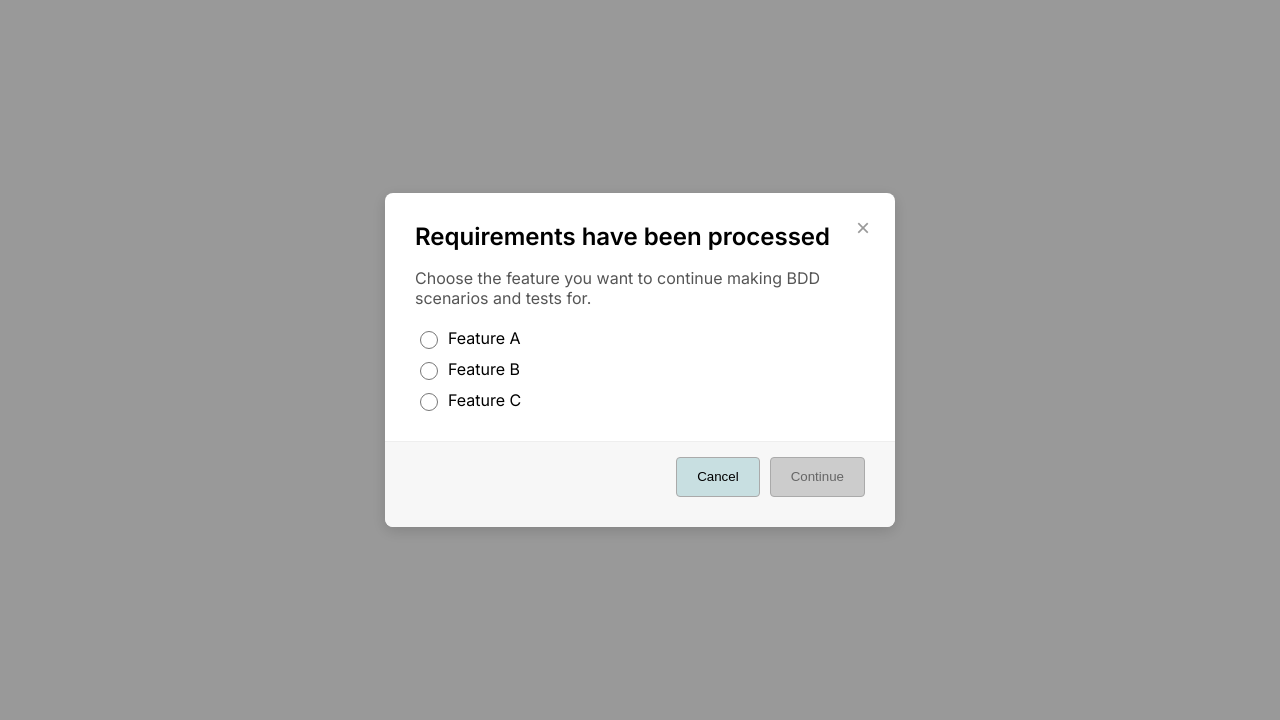
Test: ProcessDataPopup › Continue is disabled initially and becomes enabled after selecting a radio
Expected: the button with test id "processdata-popup-continue-btn" is disabled, [770,457,865,497]
Click the radio button with test id "radio-input-2" at (429, 371), box [420,362,438,380]
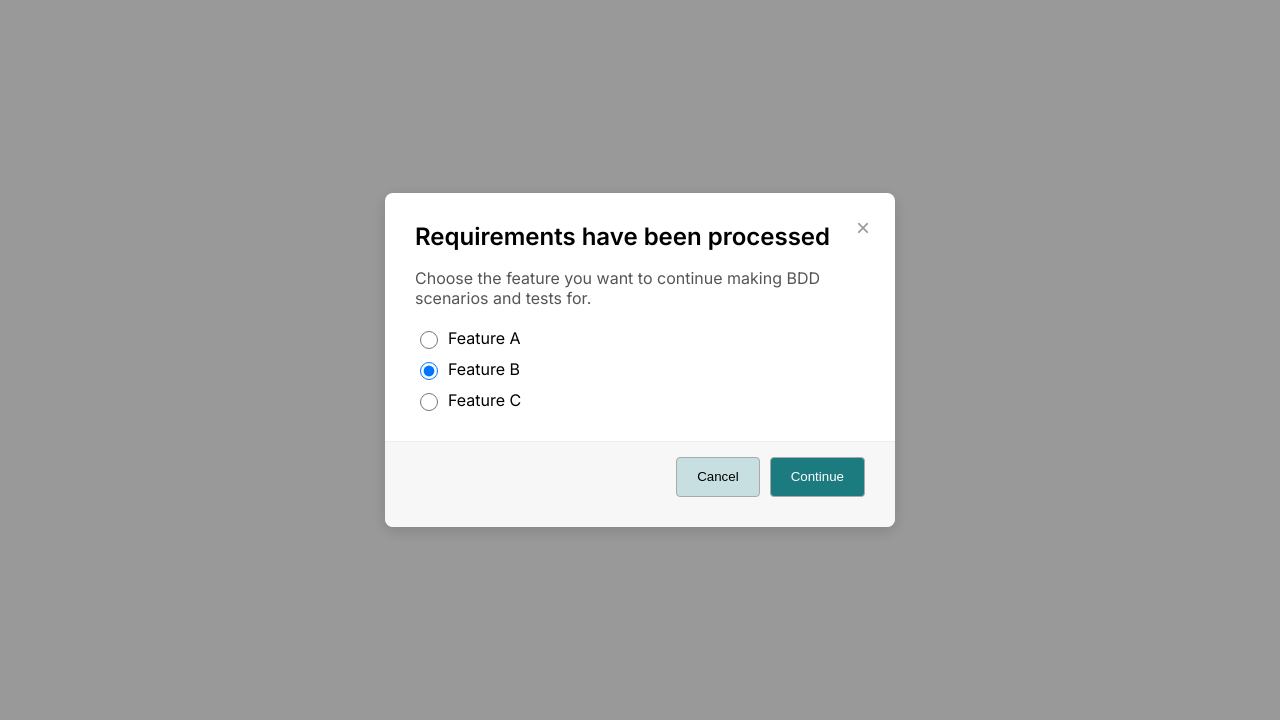
Now the button with test id "processdata-popup-continue-btn" is enabled, box [770,457,865,497]
